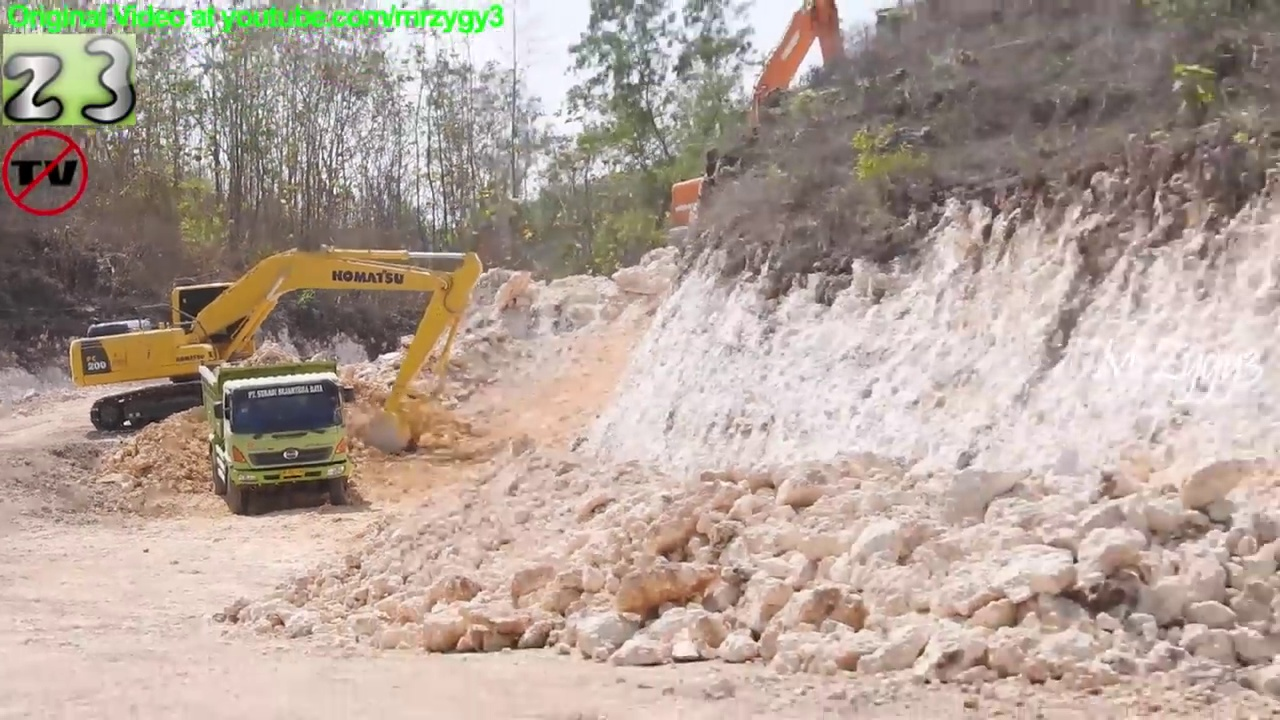excavator: (65, 241, 488, 461), (664, 1, 871, 265)
truck: (196, 352, 362, 516)
